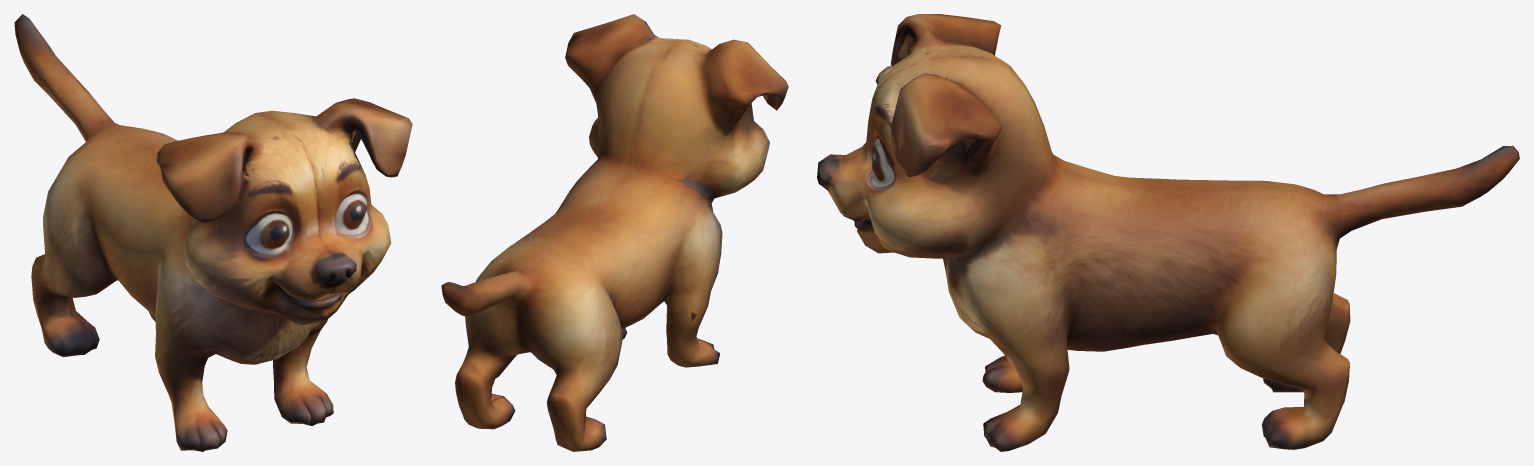
File: lowpoly_dog_by_samuel_gjekic.glb
The picture shows the model from 3 angles, left to right: view 1: azimuth 30°, elevation 25°; view 2: azimuth 150°, elevation 25°; view 3: azimuth 270°, elevation 25°; orthographic projection. The views are drawn at different scales.
Parts seen in each view (by area): view 1: Mesh1; view 2: Mesh1; view 3: Mesh1.
Boxes of the visible parts, <box> form: Mesh1: <box>14,14,412,451</box>; Mesh1: <box>441,14,788,451</box>; Mesh1: <box>817,14,1519,451</box>.
Bounding box in the file's own units: 0.869 × 1.16 × 2.01.
Materials: 1 (1 with a texture image).
